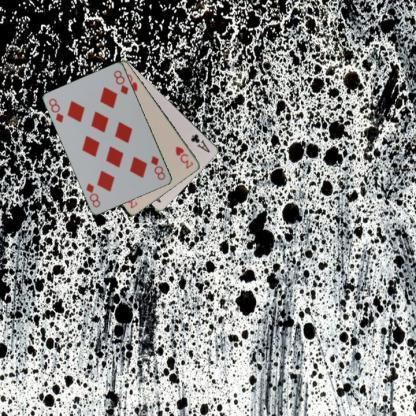3h: (172, 143, 194, 170)
8d: (46, 96, 66, 124), (148, 153, 167, 182)
Ac: (188, 131, 212, 154)
